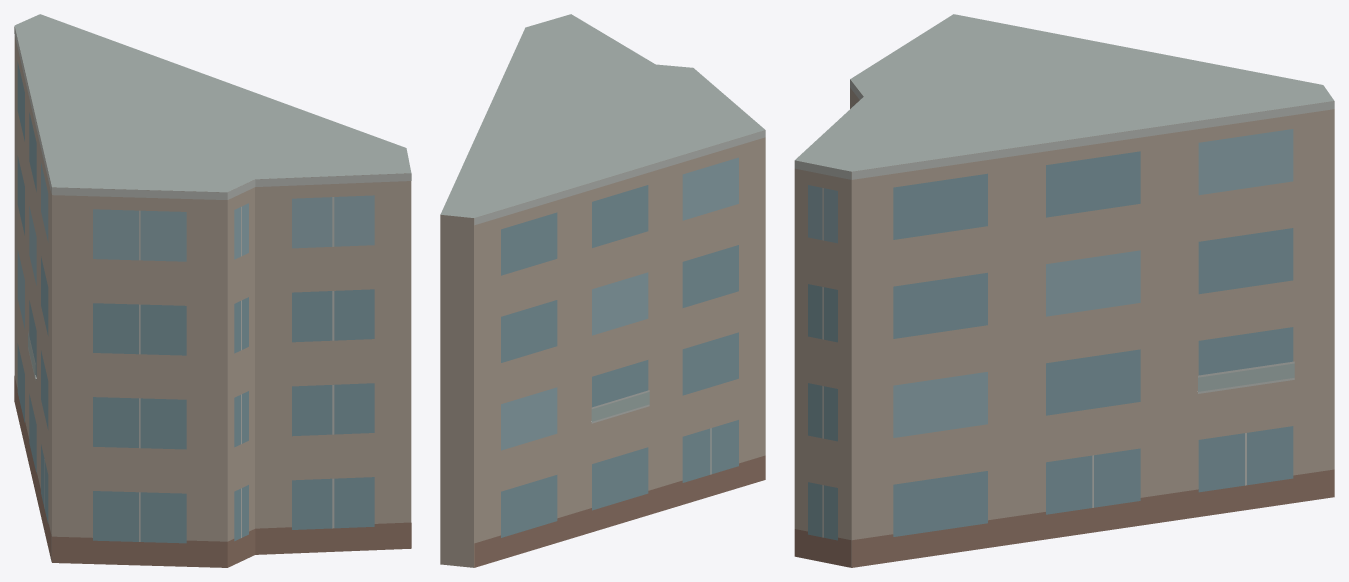
The model's file is survey-upis-32719916.glb.
3 renders of one model, left to right at view 1: azimuth 30°, elevation 25°; view 2: azimuth 150°, elevation 25°; view 3: azimuth 270°, elevation 25°, orthographic. The views are drawn at different scales.
Parts seen in each view (by area): view 1: survey-upis-32719916.tmp; view 2: survey-upis-32719916.tmp; view 3: survey-upis-32719916.tmp.
Part boxes in pixels (box(x1,y1,x2,y2)): survey-upis-32719916.tmp: box(14, 14, 411, 567); survey-upis-32719916.tmp: box(440, 14, 765, 567); survey-upis-32719916.tmp: box(794, 14, 1334, 567).
Size of the model in its own units: 10.03 by 11.74 by 14.51.
